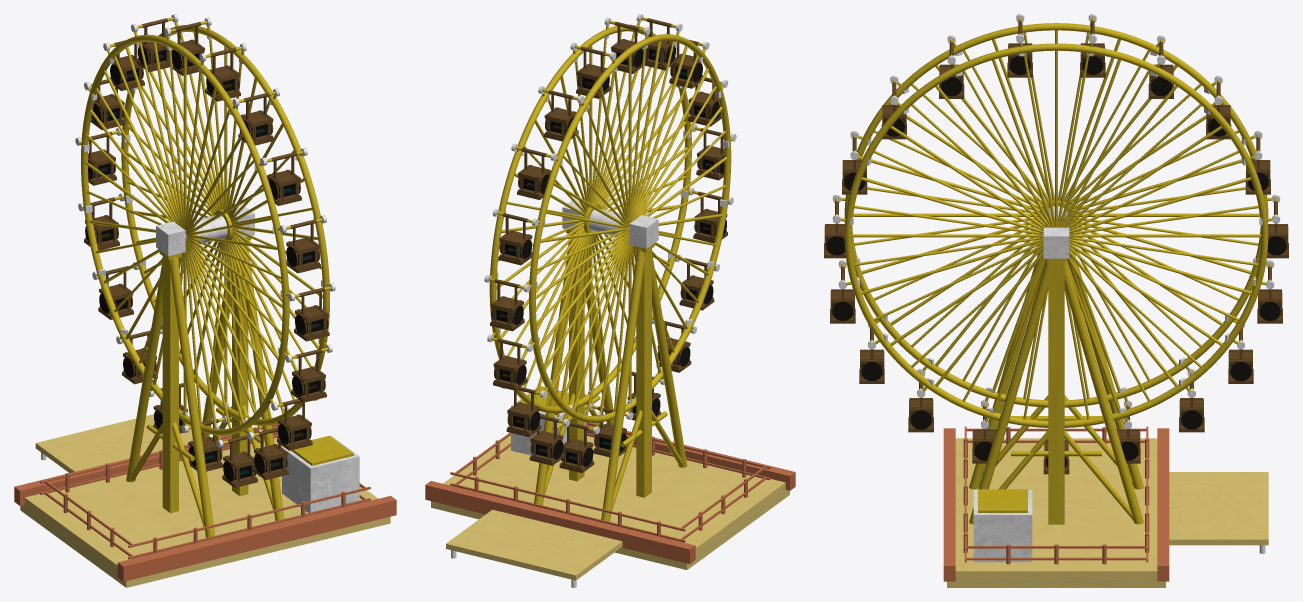
File: ferris_wheel__0005.glb
3 views of the same model, side by side, from view 1: azimuth 30°, elevation 25°; view 2: azimuth 150°, elevation 25°; view 3: azimuth 270°, elevation 25° (orthographic). The views are drawn at different scales.
Parts seen in each view (by area): view 1: support_frame::platform_slab, wheel::left_outer_rim, support_frame::rear_curbstone, wheel::right_outer_rim, support_frame::boarding_bridge, support_frame::left_hidden_core, support_frame::drive_house, support_frame::left_rear_a_leg, support_frame::left_front_a_leg, support_frame::right_hidden_core, support_frame::front_curbstone, support_frame::right_rear_a_leg (+25 smaller); view 2: support_frame::platform_slab, support_frame::boarding_bridge, wheel::left_outer_rim, support_frame::front_curbstone, wheel::right_outer_rim, support_frame::left_hidden_core, support_frame::left_front_a_leg, support_frame::left_rear_a_leg, support_frame::right_hidden_core, support_frame::rear_curbstone, support_frame::right_front_a_leg, support_frame::left_bearing_block (+23 smaller); view 3: support_frame::platform_slab, wheel::right_outer_rim, support_frame::boarding_bridge, wheel::left_outer_rim, support_frame::right_hidden_core, support_frame::drive_house, support_frame::right_front_a_leg, support_frame::right_rear_a_leg, support_frame::front_curbstone, support_frame::rear_curbstone, support_frame::left_front_a_leg, support_frame::left_rear_a_leg (+30 smaller).
Boxes of the visible parts, <box> form: support_frame::platform_slab: <box>20,437,390,587</box>; wheel::left_outer_rim: <box>81,34,289,435</box>; support_frame::rear_curbstone: <box>117,496,396,581</box>; wheel::right_outer_rim: <box>121,25,329,425</box>; support_frame::boarding_bridge: <box>35,414,192,472</box>; support_frame::left_hidden_core: <box>162,256,178,513</box>; support_frame::drive_house: <box>282,435,359,512</box>; support_frame::left_rear_a_leg: <box>170,256,214,537</box>; support_frame::left_front_a_leg: <box>126,261,162,482</box>; support_frame::right_hidden_core: <box>232,246,248,496</box>; support_frame::front_curbstone: <box>14,426,278,505</box>; support_frame::right_rear_a_leg: <box>241,240,284,520</box>; support_frame::platform_slab: <box>431,435,789,569</box>; support_frame::boarding_bridge: <box>446,509,622,580</box>; wheel::left_outer_rim: <box>529,34,731,422</box>; support_frame::front_curbstone: <box>425,481,695,564</box>; wheel::right_outer_rim: <box>489,24,691,413</box>; support_frame::left_hidden_core: <box>636,248,651,497</box>; support_frame::left_front_a_leg: <box>601,249,644,521</box>; support_frame::left_rear_a_leg: <box>652,253,687,467</box>; support_frame::right_hidden_core: <box>569,256,584,481</box>; support_frame::rear_curbstone: <box>586,422,795,490</box>; support_frame::right_front_a_leg: <box>534,233,575,505</box>; support_frame::left_bearing_block: <box>629,215,658,248</box>; support_frame::platform_slab: <box>947,438,1165,587</box>; wheel::right_outer_rim: <box>844,43,1268,427</box>; support_frame::boarding_bridge: <box>1169,472,1268,545</box>; wheel::left_outer_rim: <box>844,23,1268,407</box>; support_frame::right_hidden_core: <box>1048,263,1064,524</box>; support_frame::drive_house: <box>973,490,1032,562</box>; support_frame::right_front_a_leg: <box>1064,259,1143,524</box>; support_frame::right_rear_a_leg: <box>969,259,1048,524</box>; support_frame::front_curbstone: <box>1157,428,1169,581</box>; support_frame::rear_curbstone: <box>943,428,955,581</box>; support_frame::left_front_a_leg: <box>1066,248,1143,489</box>; support_frame::left_rear_a_leg: <box>969,248,1046,489</box>.
Size of the model in its own units: 1.61 by 2.7 by 2.29.
Materials: 12 (6 with a texture image).
